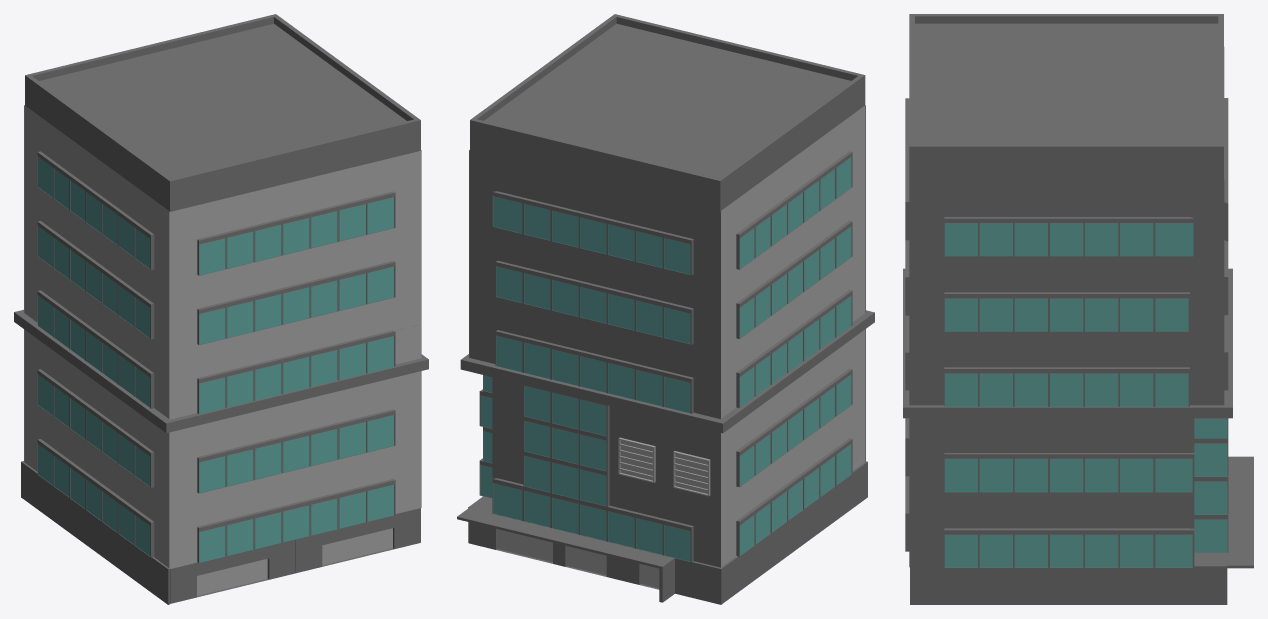
The model's file is Building6_Herfy.fbx.
3 renders of one model, left to right at view 1: azimuth 30°, elevation 25°; view 2: azimuth 150°, elevation 25°; view 3: azimuth 270°, elevation 25°, orthographic. The views are drawn at different scales.
Visible parts, largest first — view 1: Roof, Floor4, Floor1_Lower, Floor3, Floor2, Floor1_Upper, Concrete, Floor1Roof, GateBack2, GateBack1; view 2: Roof, Floor4, Floor3, Floor2, Windows, Concrete (×2), Floor1_Lower, Floor1_Upper, concrete2, Floor1Roof, Shade, GateFront1 (+4 smaller); view 3: Roof, Floor4, Floor3, Floor2, Floor1_Lower, Floor1_Upper, Concrete, Floor1Roof, Windows, Shade, ShadePart.
Part boxes in pixels (box(x1,y1,x2,y2)): Roof: box(25, 14, 420, 211); Floor4: box(24, 105, 421, 281); Floor1_Lower: box(24, 393, 421, 568); Floor3: box(24, 175, 421, 350); Floor2: box(24, 245, 421, 419); Floor1_Upper: box(24, 330, 421, 499); Concrete: box(21, 461, 420, 604); Floor1Roof: box(14, 309, 428, 433); GateBack2: box(322, 528, 392, 565); GateBack1: box(197, 559, 267, 595); Roof: box(470, 14, 865, 211); Floor4: box(469, 105, 865, 281); Floor3: box(469, 174, 865, 350); Floor2: box(469, 244, 865, 418); Windows: box(479, 375, 693, 562); Concrete (×2): box(468, 378, 867, 604); Floor1_Lower: box(480, 392, 865, 567); Floor1_Upper: box(480, 329, 865, 497); concrete2: box(609, 406, 720, 533); Floor1Roof: box(460, 310, 874, 433); Shade: box(457, 508, 674, 602); GateFront1: box(497, 529, 552, 562); Roof: box(909, 14, 1223, 179); Floor4: box(905, 47, 1228, 256); Floor3: box(905, 240, 1228, 331); Floor2: box(905, 315, 1228, 406); Floor1_Lower: box(905, 476, 1194, 568); Floor1_Upper: box(905, 418, 1193, 492); Concrete: box(910, 567, 1227, 604); Floor1Roof: box(903, 268, 1232, 418); Windows: box(1190, 418, 1228, 552); Shade: box(1227, 456, 1253, 568); ShadePart: box(1194, 553, 1227, 567).
Bounding box in the file's own units: 2806 × 4317 × 2997.
